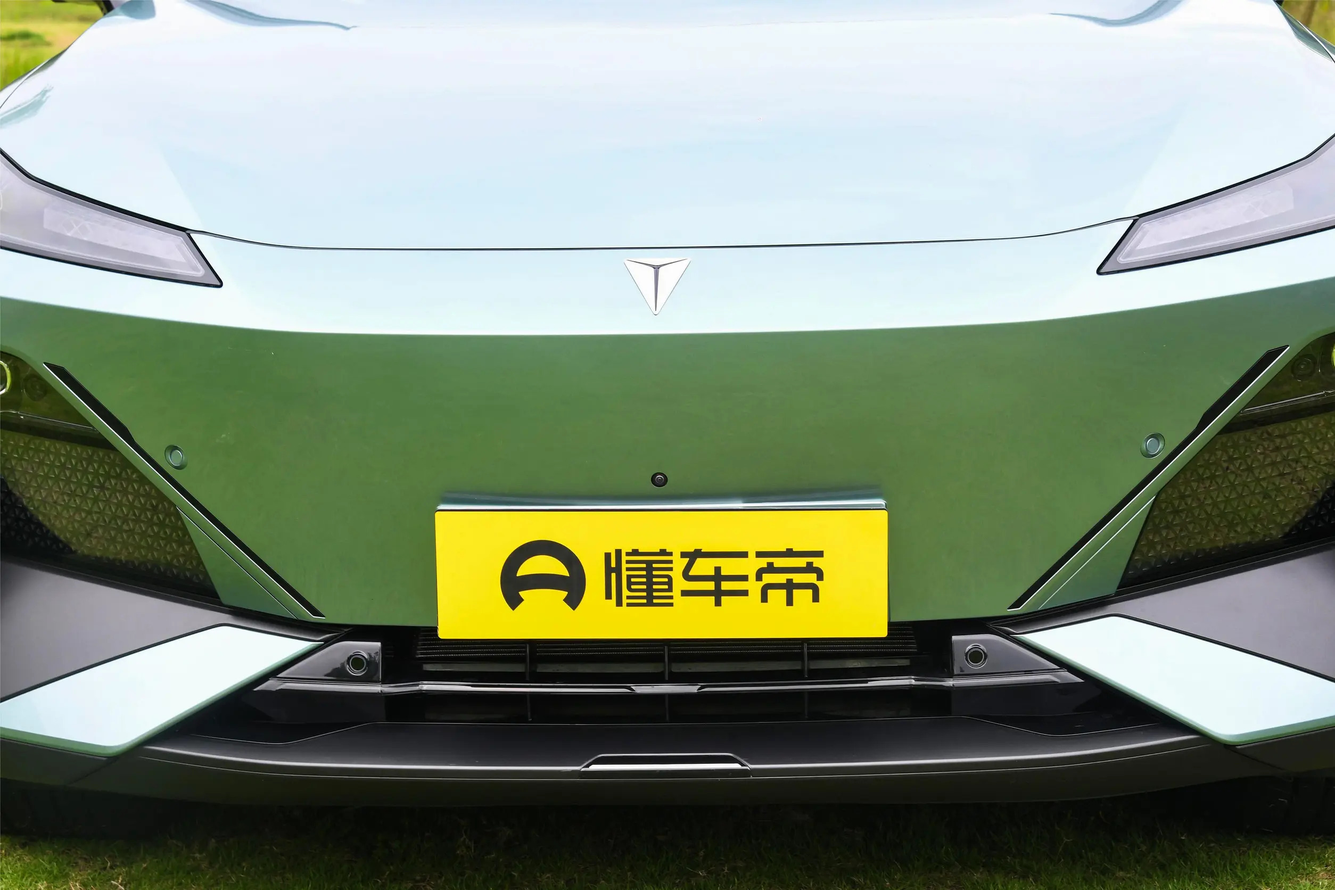Deepal: (624, 258, 690, 314)
